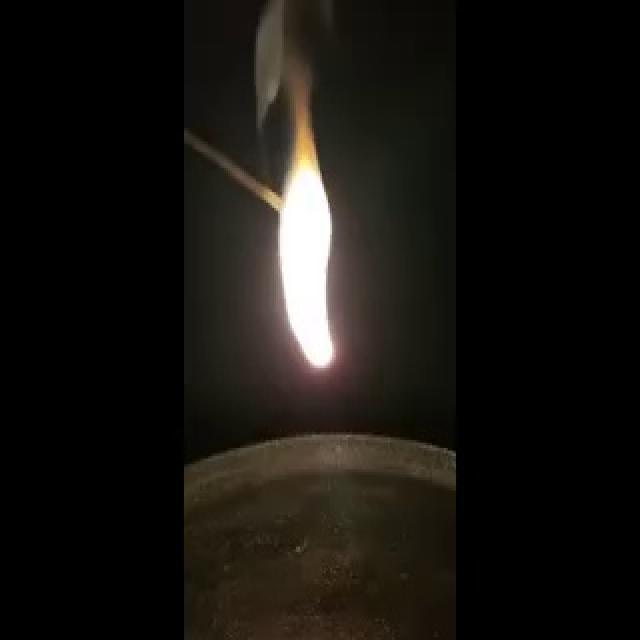fire: (265, 68, 343, 374)
